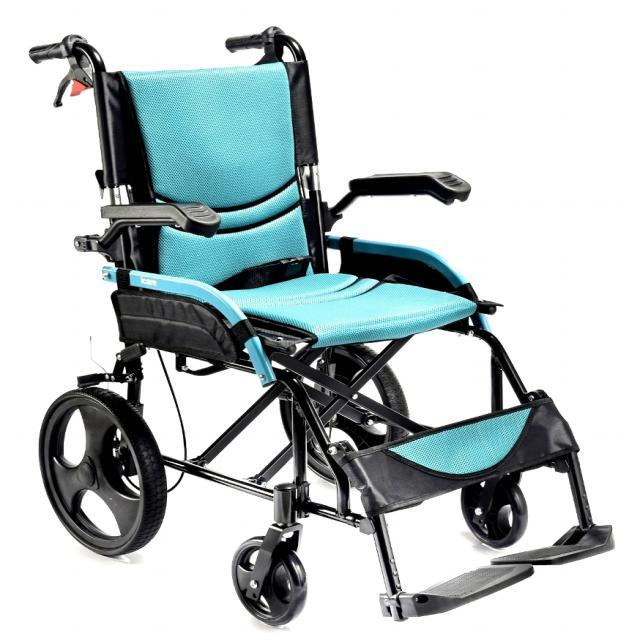wheelchair: (14, 26, 626, 638)
